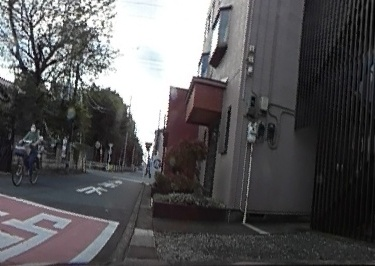person: (18, 124, 41, 187)
